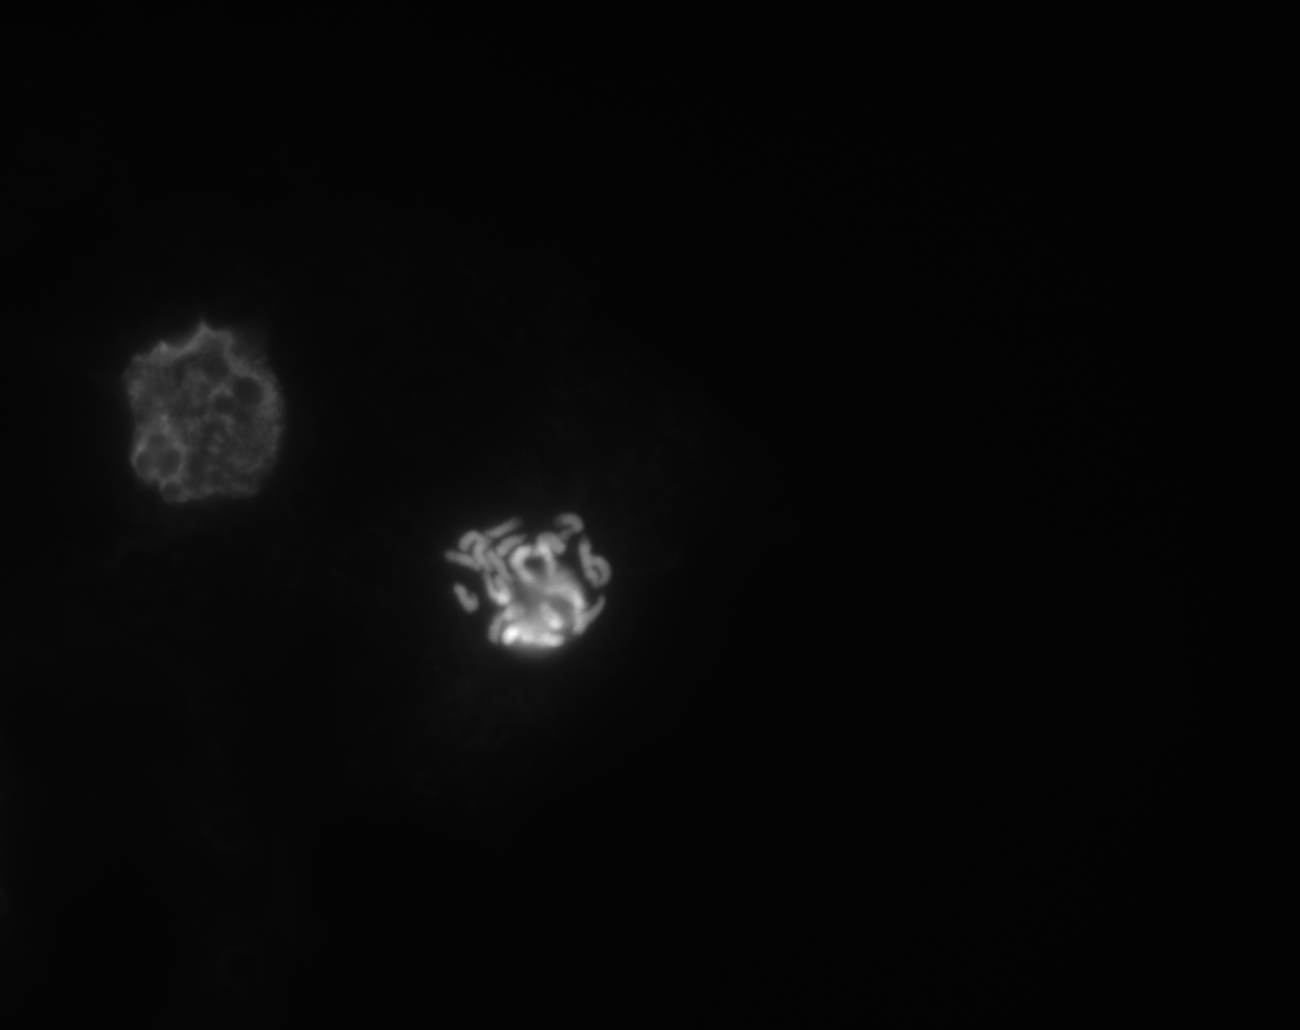Chromosomes: (415, 481, 644, 673)
Others: (88, 276, 298, 539)
